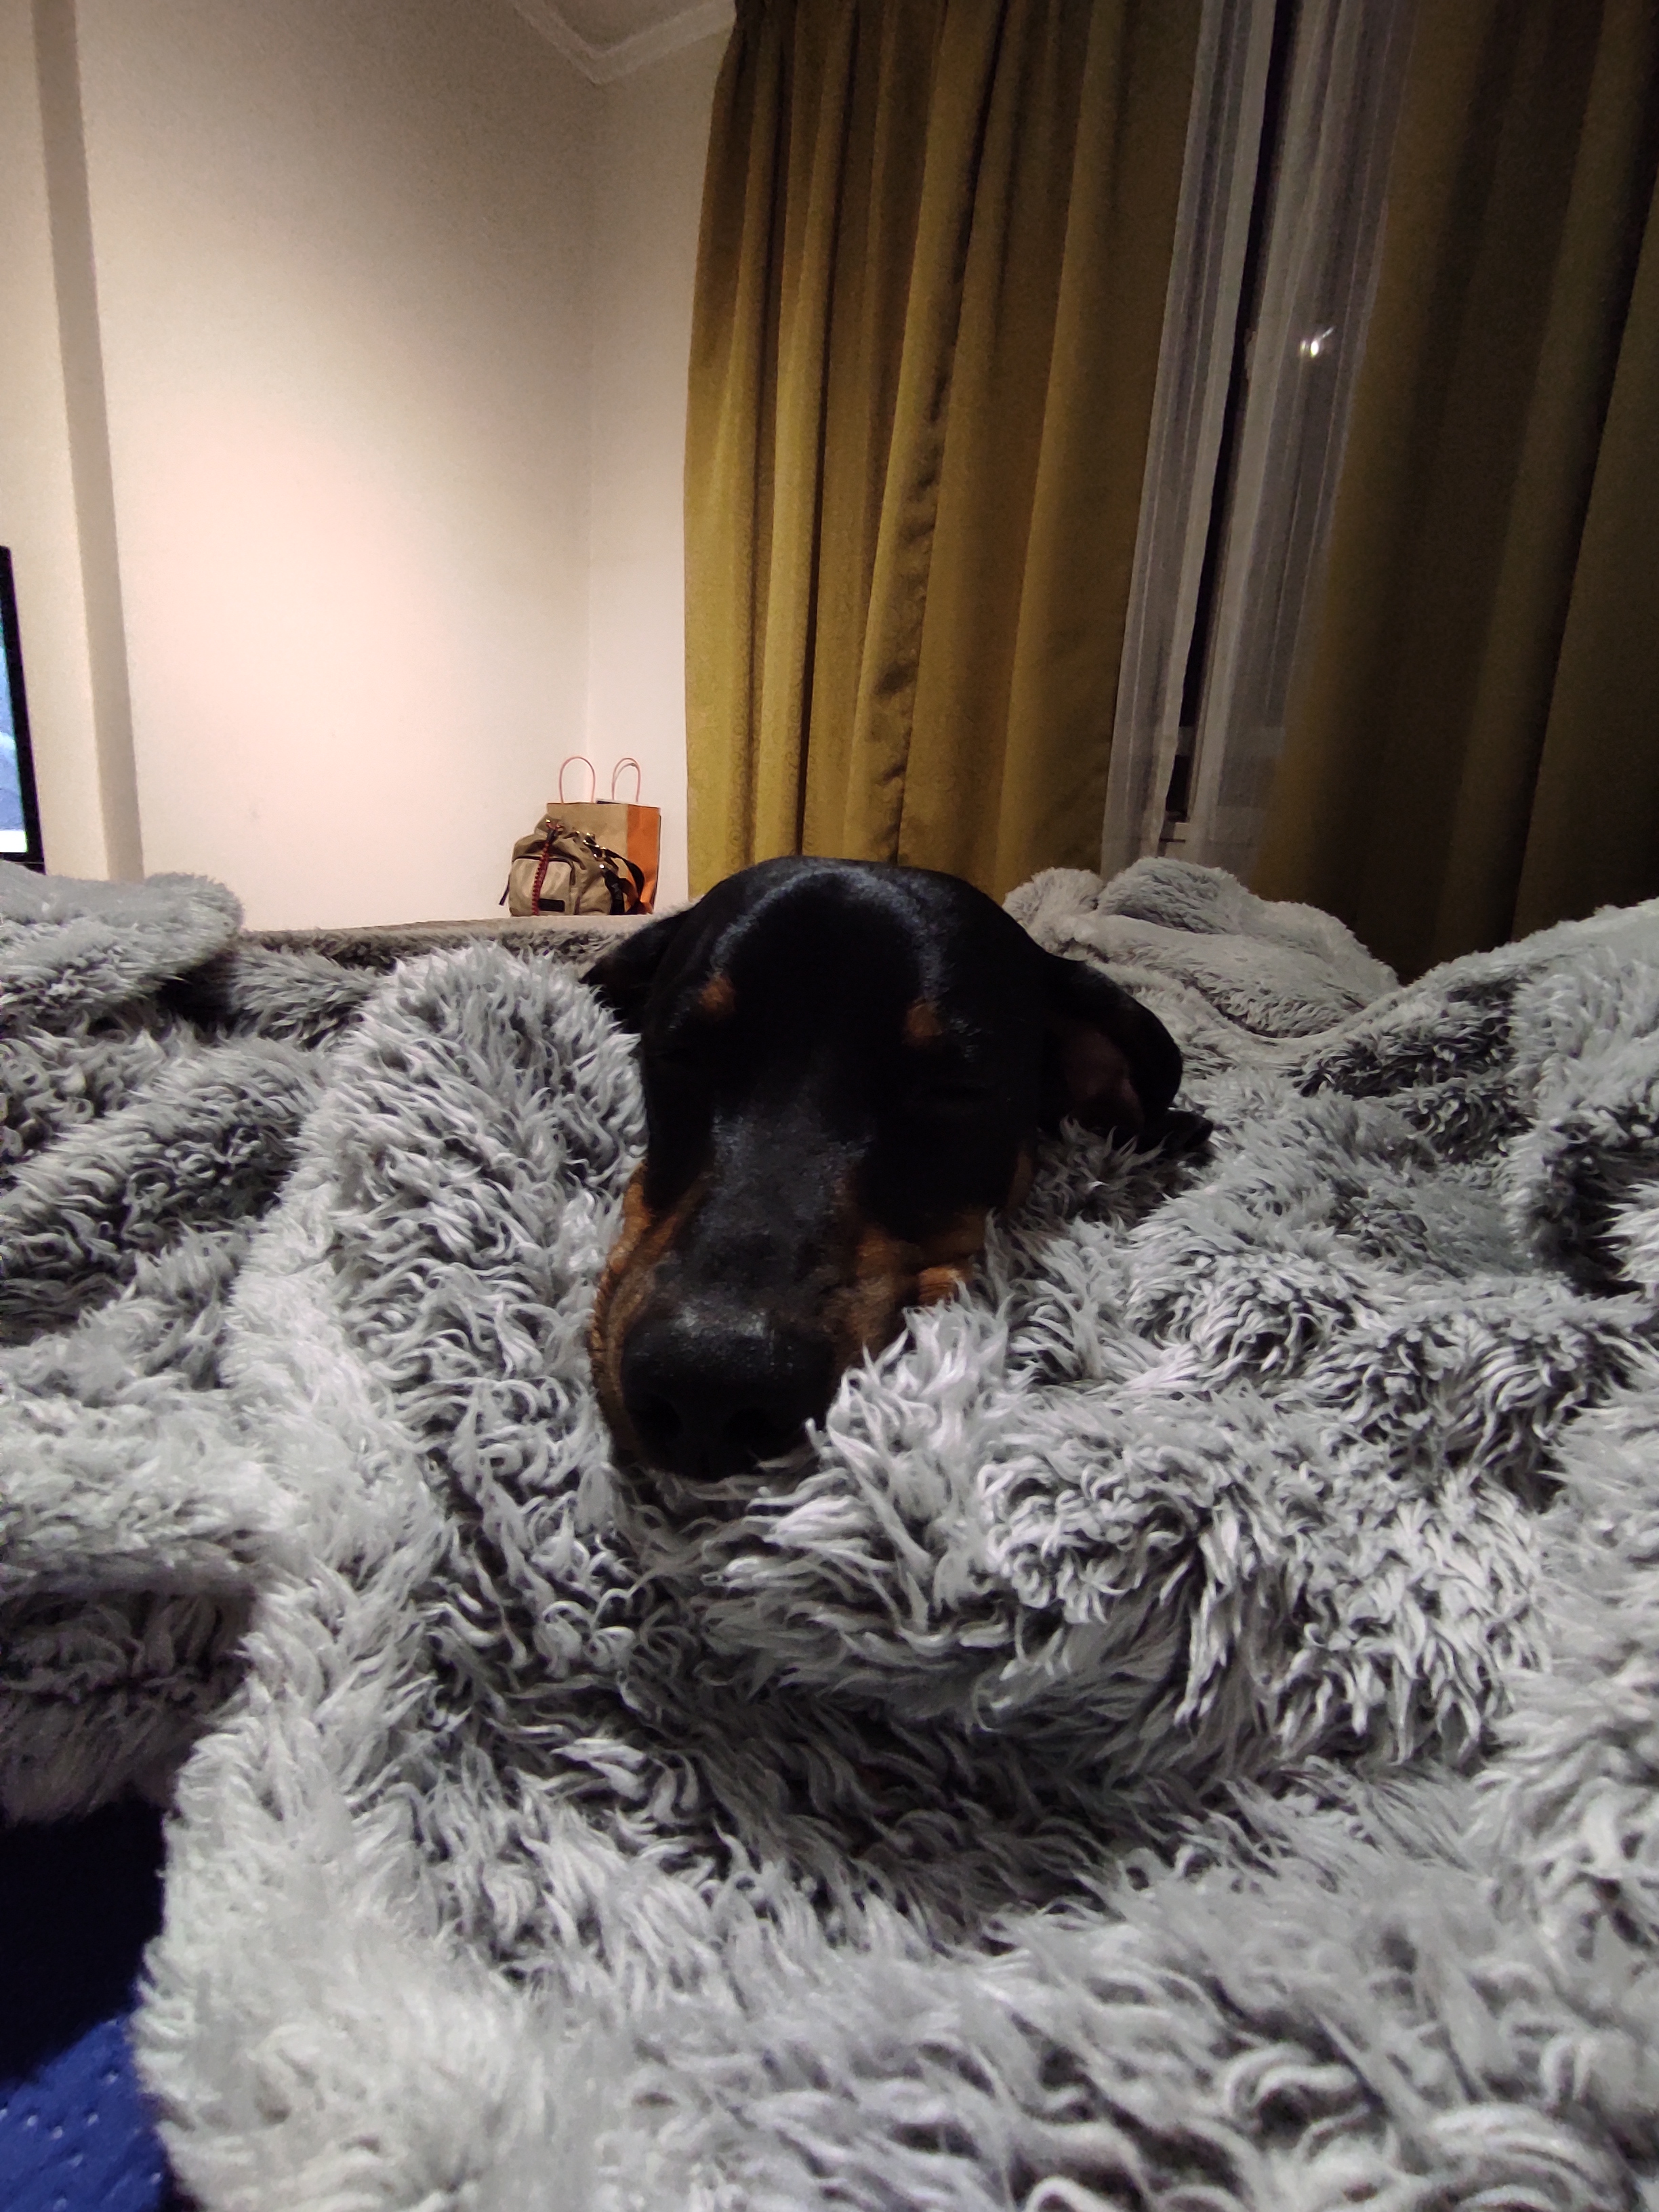milo: (580, 838, 1237, 1500)
